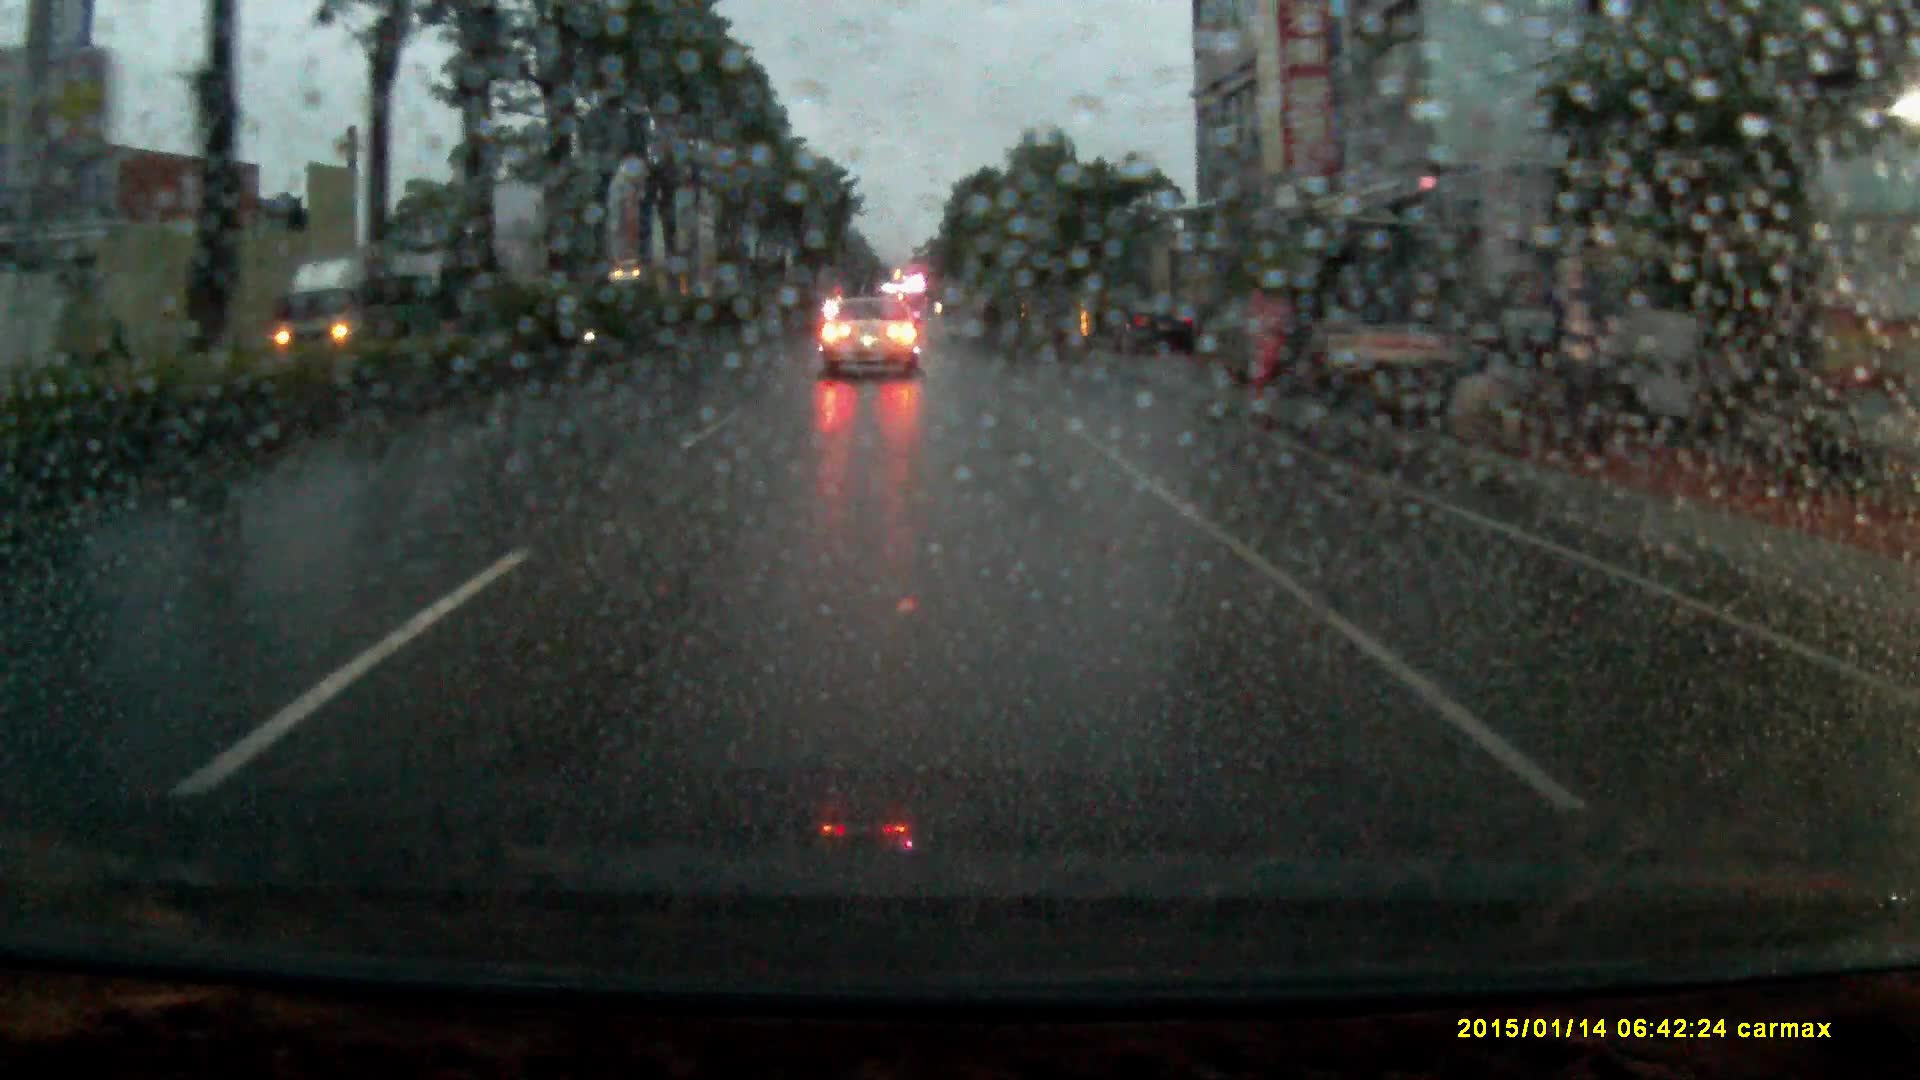vehicle: (272, 245, 444, 344), (822, 291, 922, 378), (1112, 294, 1197, 352)
